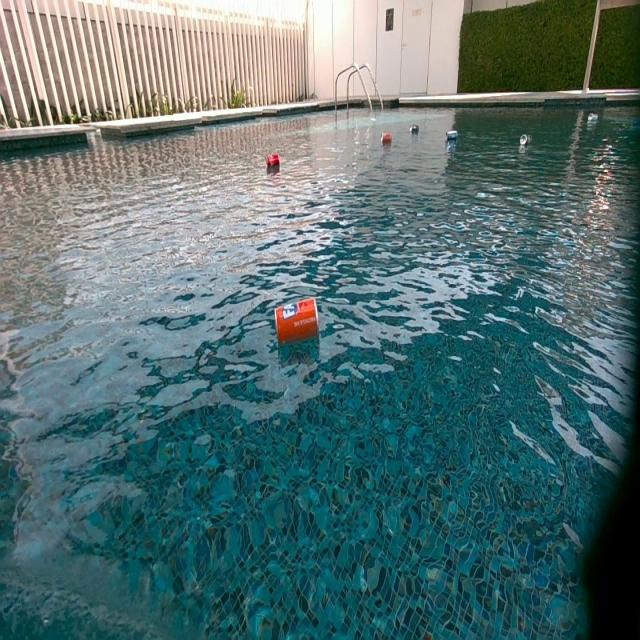Cans: (274, 299, 317, 347), (267, 155, 281, 171), (520, 134, 531, 148), (447, 130, 459, 141), (410, 125, 421, 137), (382, 132, 392, 145), (589, 112, 599, 121)
